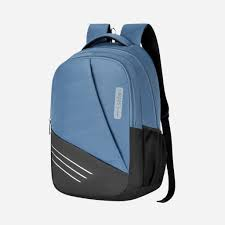backpack: (48, 22, 175, 203)
